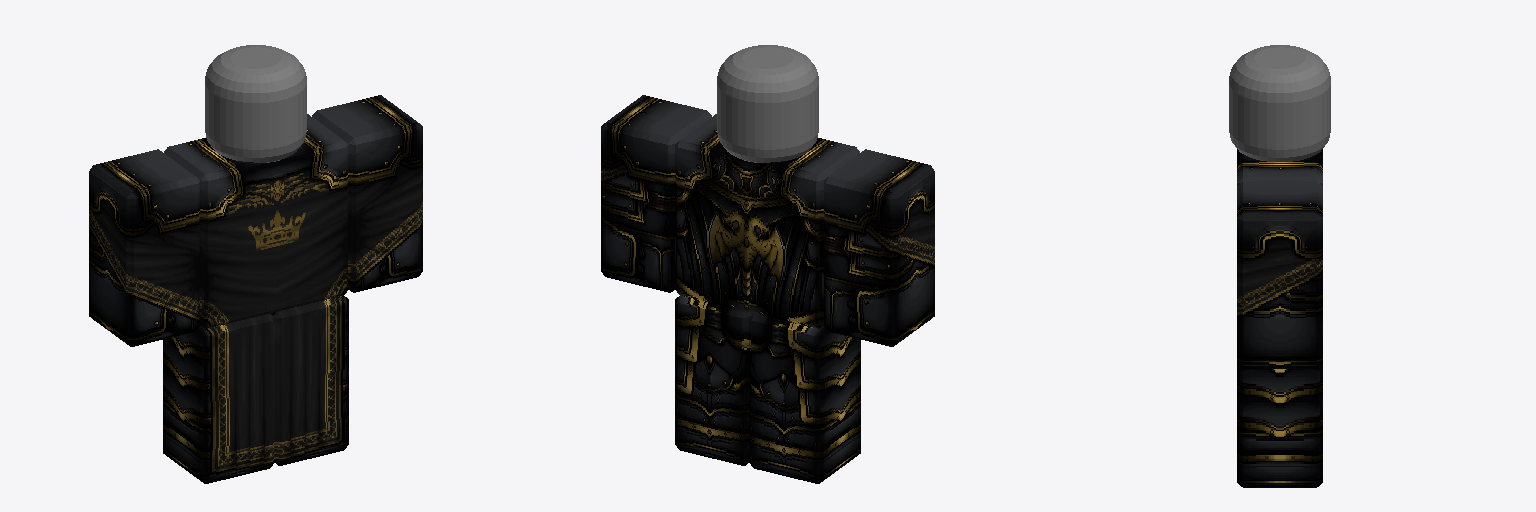
3 renders of one model, left to right at view 1: azimuth 30°, elevation 25°; view 2: azimuth 150°, elevation 25°; view 3: azimuth 270°, elevation 25°, orthographic.
Visible parts, largest first — view 1: Emperor5, Emperor4, Emperor2, Emperor3, Emperor1, Emperor6; view 2: Emperor5, Emperor4, Emperor2, Emperor3, Emperor1, Emperor6; view 3: Emperor3, Emperor6, Emperor1, Emperor5.
Boxes of the visible parts, box(x1,y1,x2,y2) form: Emperor5: box(164, 114, 348, 328); Emperor4: box(89, 149, 199, 346); Emperor2: box(163, 314, 274, 483); Emperor3: box(312, 95, 422, 292); Emperor1: box(270, 296, 348, 465); Emperor6: box(205, 45, 306, 162); Emperor5: box(675, 114, 859, 328); Emperor4: box(824, 149, 934, 346); Emperor2: box(749, 314, 860, 483); Emperor3: box(601, 95, 711, 292); Emperor1: box(675, 296, 753, 465); Emperor6: box(717, 45, 818, 162); Emperor3: box(1237, 182, 1322, 368); Emperor6: box(1229, 45, 1330, 161); Emperor1: box(1237, 364, 1322, 487); Emperor5: box(1237, 149, 1322, 186).
Bounding box in the file's own units: 4 × 5.1 × 1.2.
1 materials, 1 textured.